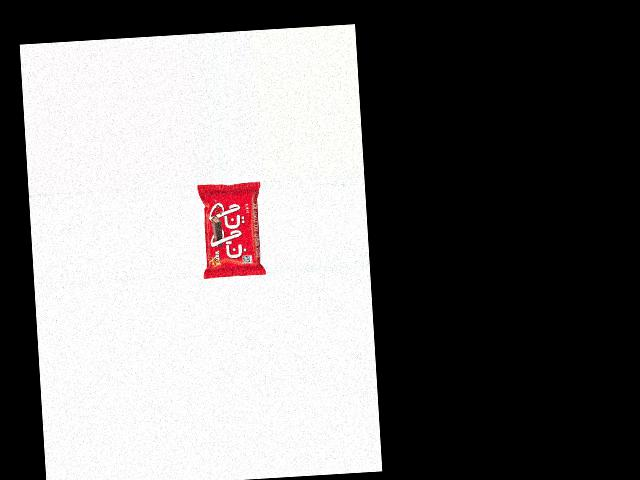chocolate: (197, 181, 267, 278)
